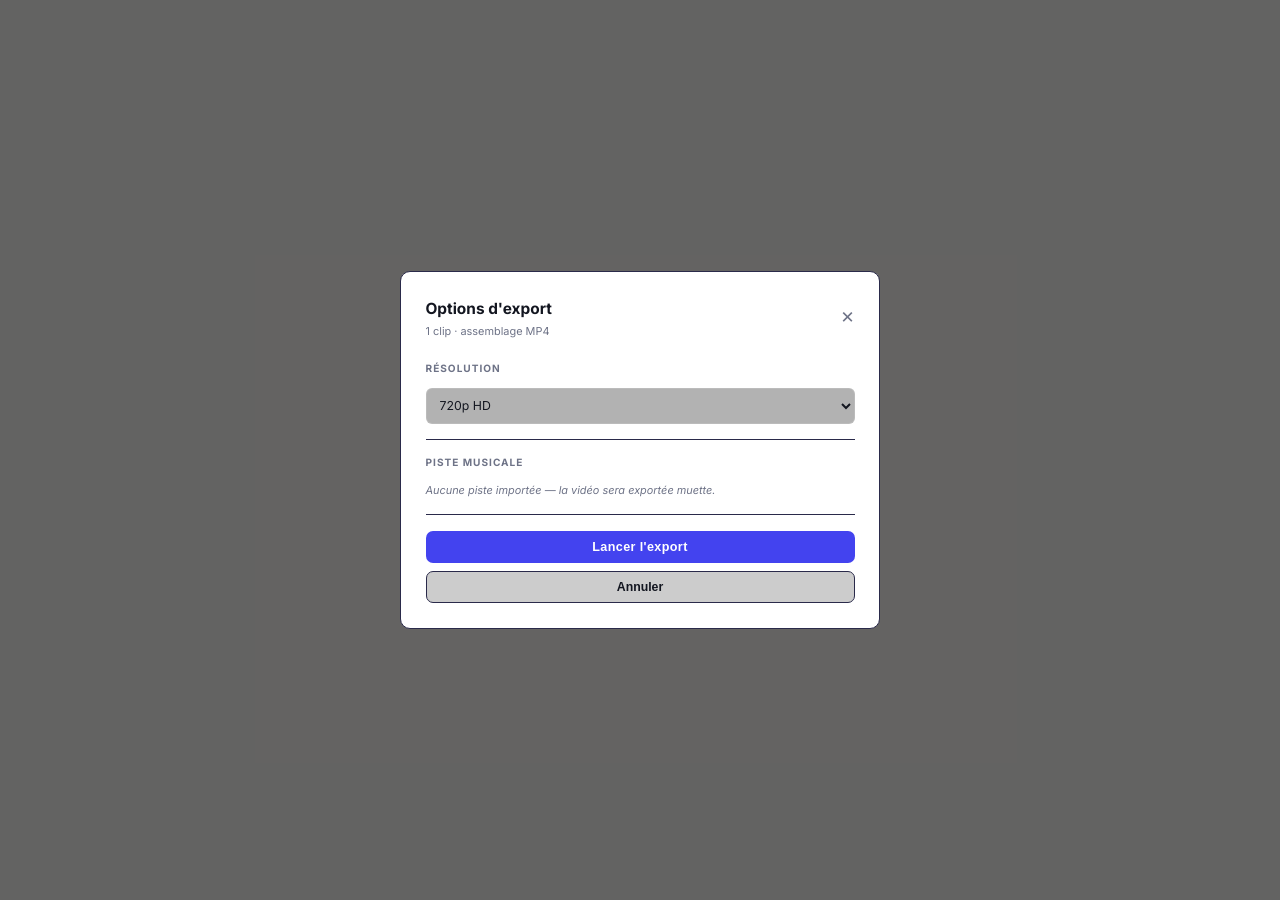
Test: ExportPanel › download button appears when export is done
Click the button "Lancer l'export": [640, 547] box [426, 531, 854, 563]
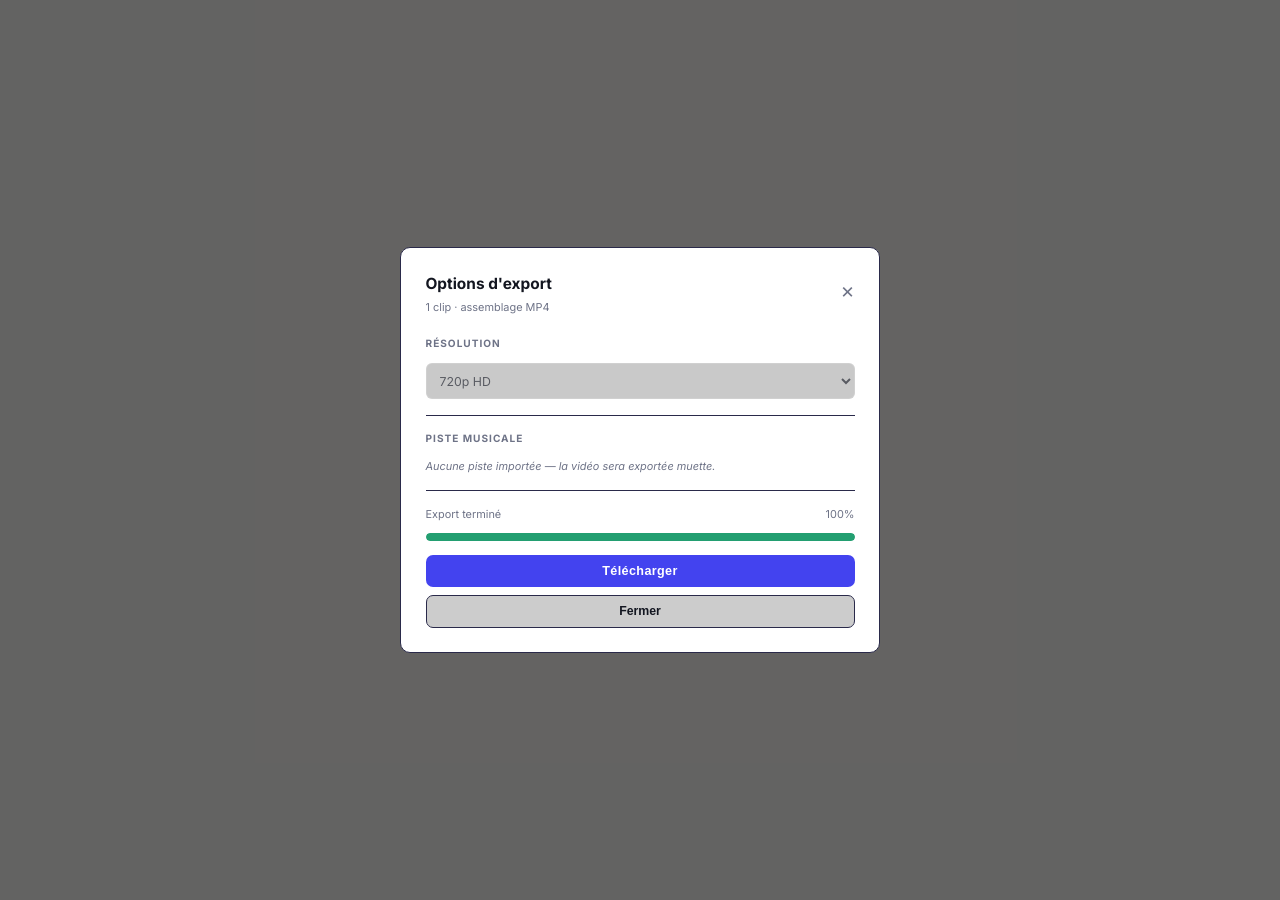
Expected: the button "Télécharger" is shown, [426, 555, 854, 587]
